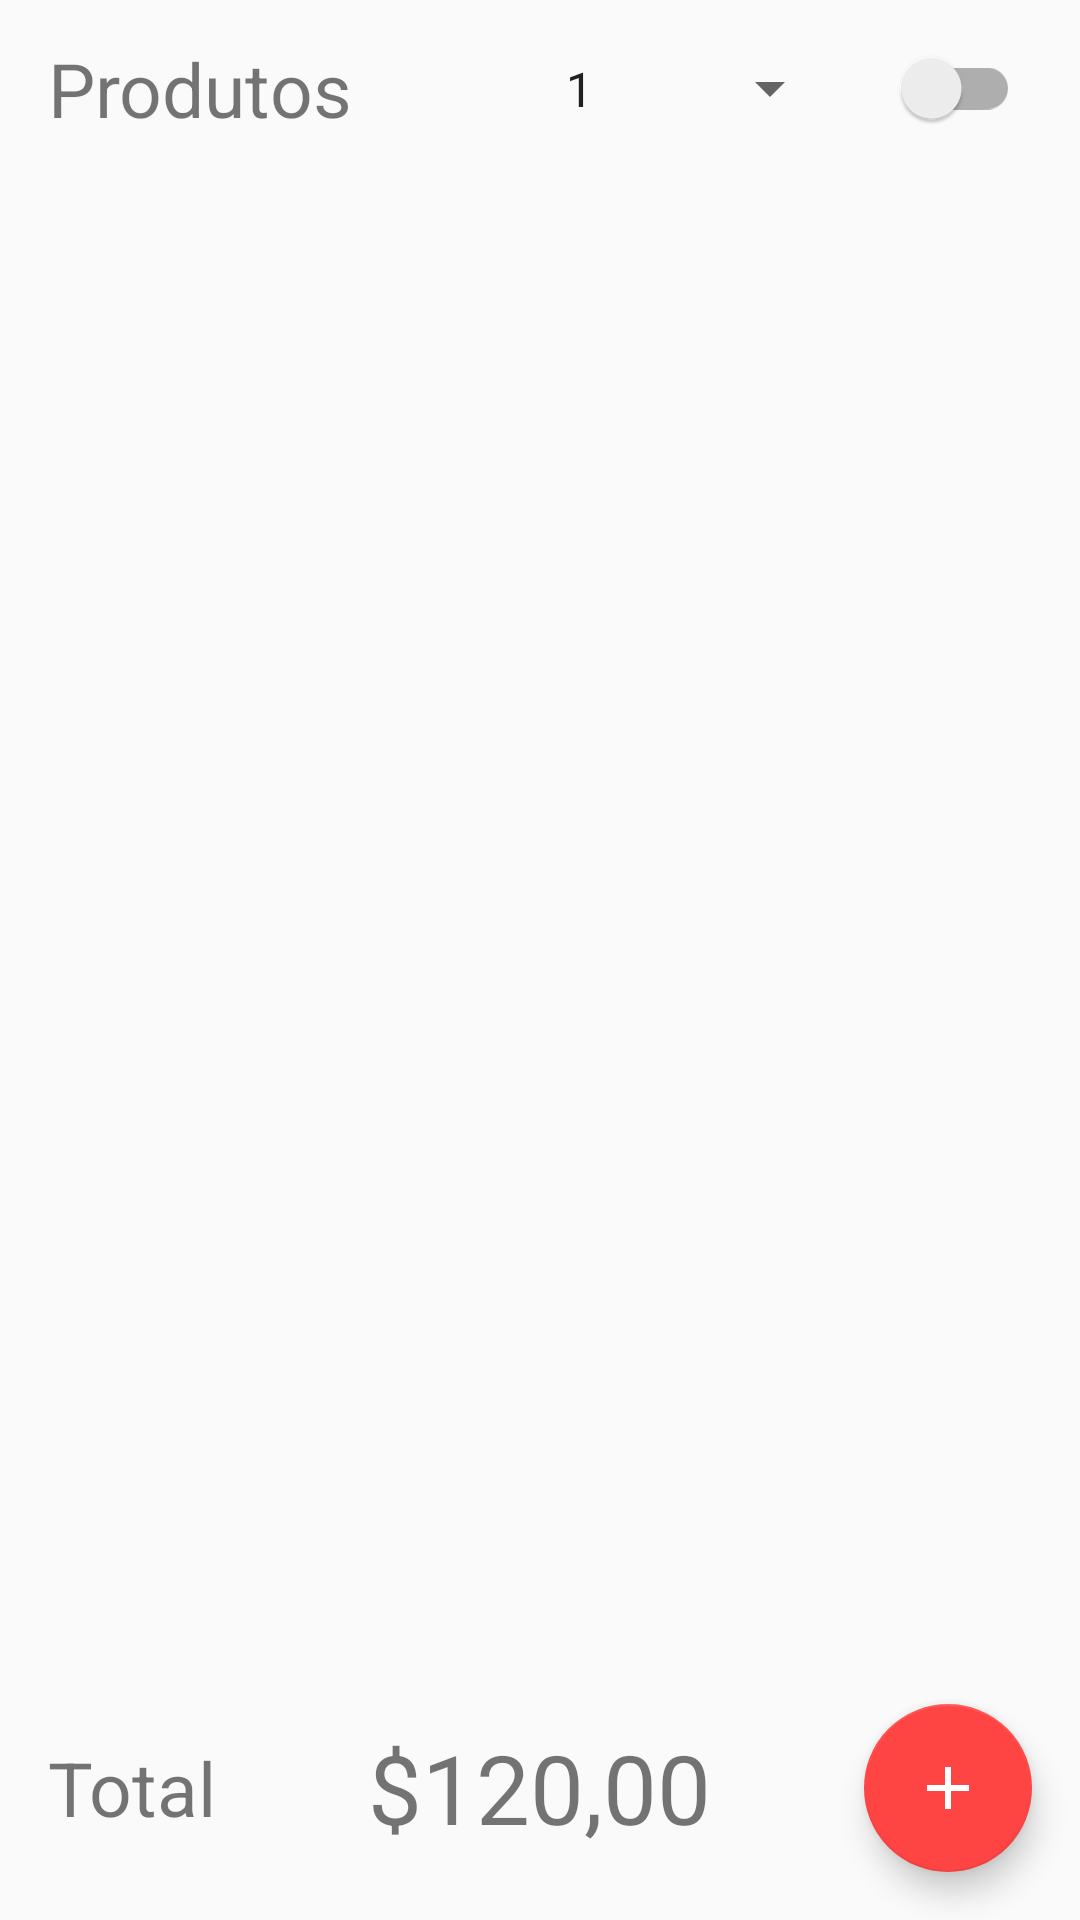

Locate icon controls on the screen. Image size 1080px x 1920px, boxes as (x1,y1,x2,y2).
add circle: (864,1704,1032,1872)
